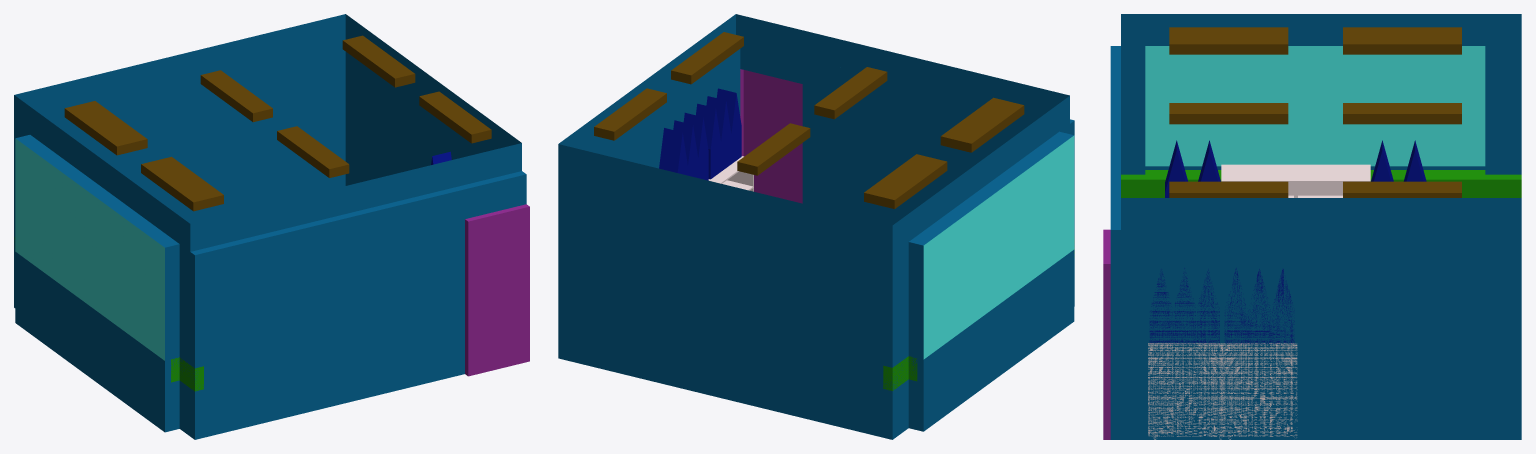
3 views of the same model, side by side, from view 1: azimuth 30°, elevation 25°; view 2: azimuth 150°, elevation 25°; view 3: azimuth 270°, elevation 25° (orthographic). The views are drawn at different scales.
Visible parts, largest first — view 1: Group10, Group9, Group11, Group6, Group2, Group4, Group3, Group5, Group7, Group8; view 2: Group10, Group9, Group11, Group2, Group6, Group7, Group5, Group3, Group4, AbsorptionWedge90_6, AbsorptionWedge90_8, AbsorptionWedge90_10 (+4 smaller); view 3: Group10, Group9, Group37, Group25, Group8, Group2, Group6, Group5, Group7, Group3, Group4, Group11 (+13 smaller).
Boxes of the visible parts, <box> form: Group10: <box>14,14,526,439</box>; Group9: <box>15,138,164,360</box>; Group11: <box>465,204,529,376</box>; Group6: <box>64,101,147,155</box>; Group2: <box>141,156,223,211</box>; Group4: <box>342,35,415,87</box>; Group3: <box>419,91,491,143</box>; Group5: <box>277,126,349,177</box>; Group7: <box>200,70,272,122</box>; Group8: <box>14,237,203,391</box>; Group10: <box>558,14,1074,439</box>; Group9: <box>923,135,1074,359</box>; Group11: <box>740,69,802,203</box>; Group2: <box>940,97,1024,152</box>; Group6: <box>864,154,947,208</box>; Group7: <box>737,123,810,175</box>; Group5: <box>814,67,887,119</box>; Group3: <box>671,32,743,84</box>; Group4: <box>594,88,666,140</box>; AbsorptionWedge90_6: <box>659,128,687,175</box>; AbsorptionWedge90_8: <box>696,103,720,179</box>; AbsorptionWedge90_10: <box>706,96,731,171</box>; Group10: <box>1110,14,1521,439</box>; Group9: <box>1145,46,1485,166</box>; Group37: <box>1148,343,1222,436</box>; Group25: <box>1222,343,1297,436</box>; Group8: <box>1121,170,1521,197</box>; Group2: <box>1169,27,1288,54</box>; Group6: <box>1343,27,1461,54</box>; Group5: <box>1169,103,1288,124</box>; Group7: <box>1343,103,1461,124</box>; Group3: <box>1169,181,1288,197</box>; Group4: <box>1343,181,1461,197</box>; Group11: <box>1103,229,1110,439</box>.
Bounding box in the file's own units: 4.87 × 2.86 × 4.48.
